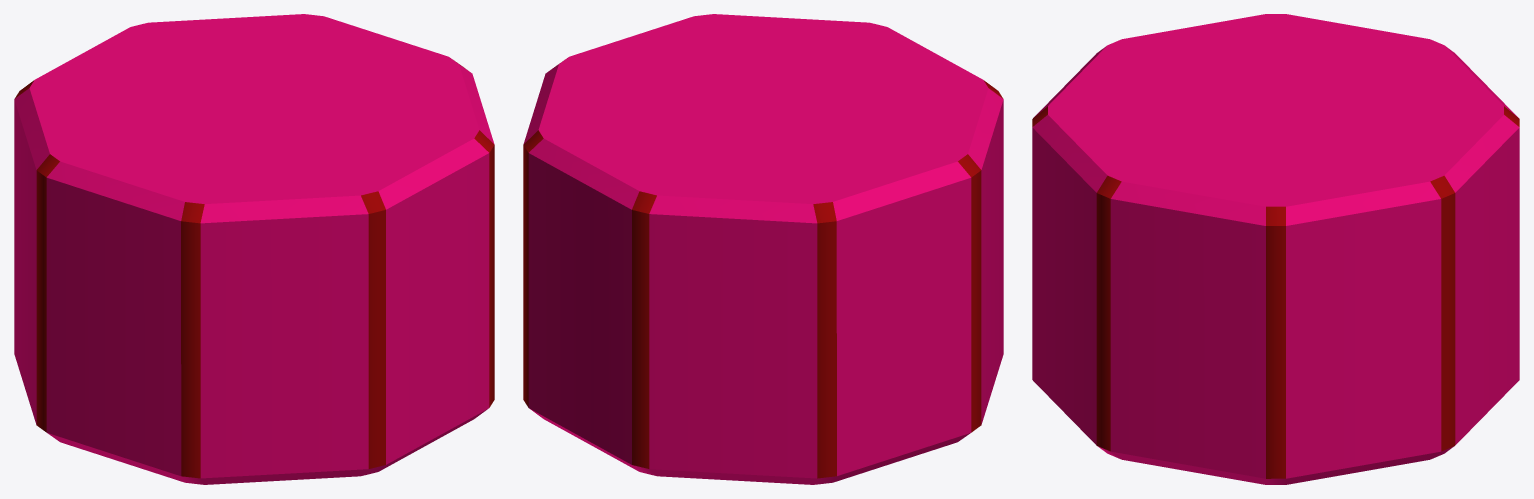
The model's file is bottle_cap.fbx.
3 views of the same model, side by side, from view 1: azimuth 30°, elevation 25°; view 2: azimuth 150°, elevation 25°; view 3: azimuth 270°, elevation 25° (orthographic).
Parts seen in each view (by area): view 1: pCylinder4; view 2: pCylinder4; view 3: pCylinder4.
Part boxes in pixels (x1,y1,x2,y2): pCylinder4: (14,14,494,484); pCylinder4: (523,14,1003,484); pCylinder4: (1032,14,1519,484).
Bounding box in the file's own units: 1.68 × 1.06 × 1.68.
